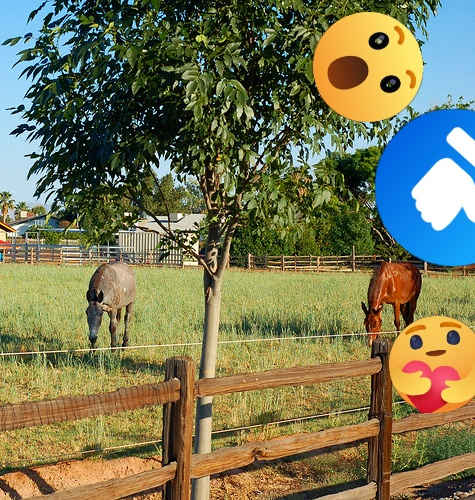care: (389, 316, 475, 413)
like: (375, 109, 475, 266)
wow: (313, 12, 423, 122)
